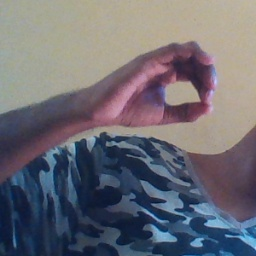O: (97, 33, 220, 134)
